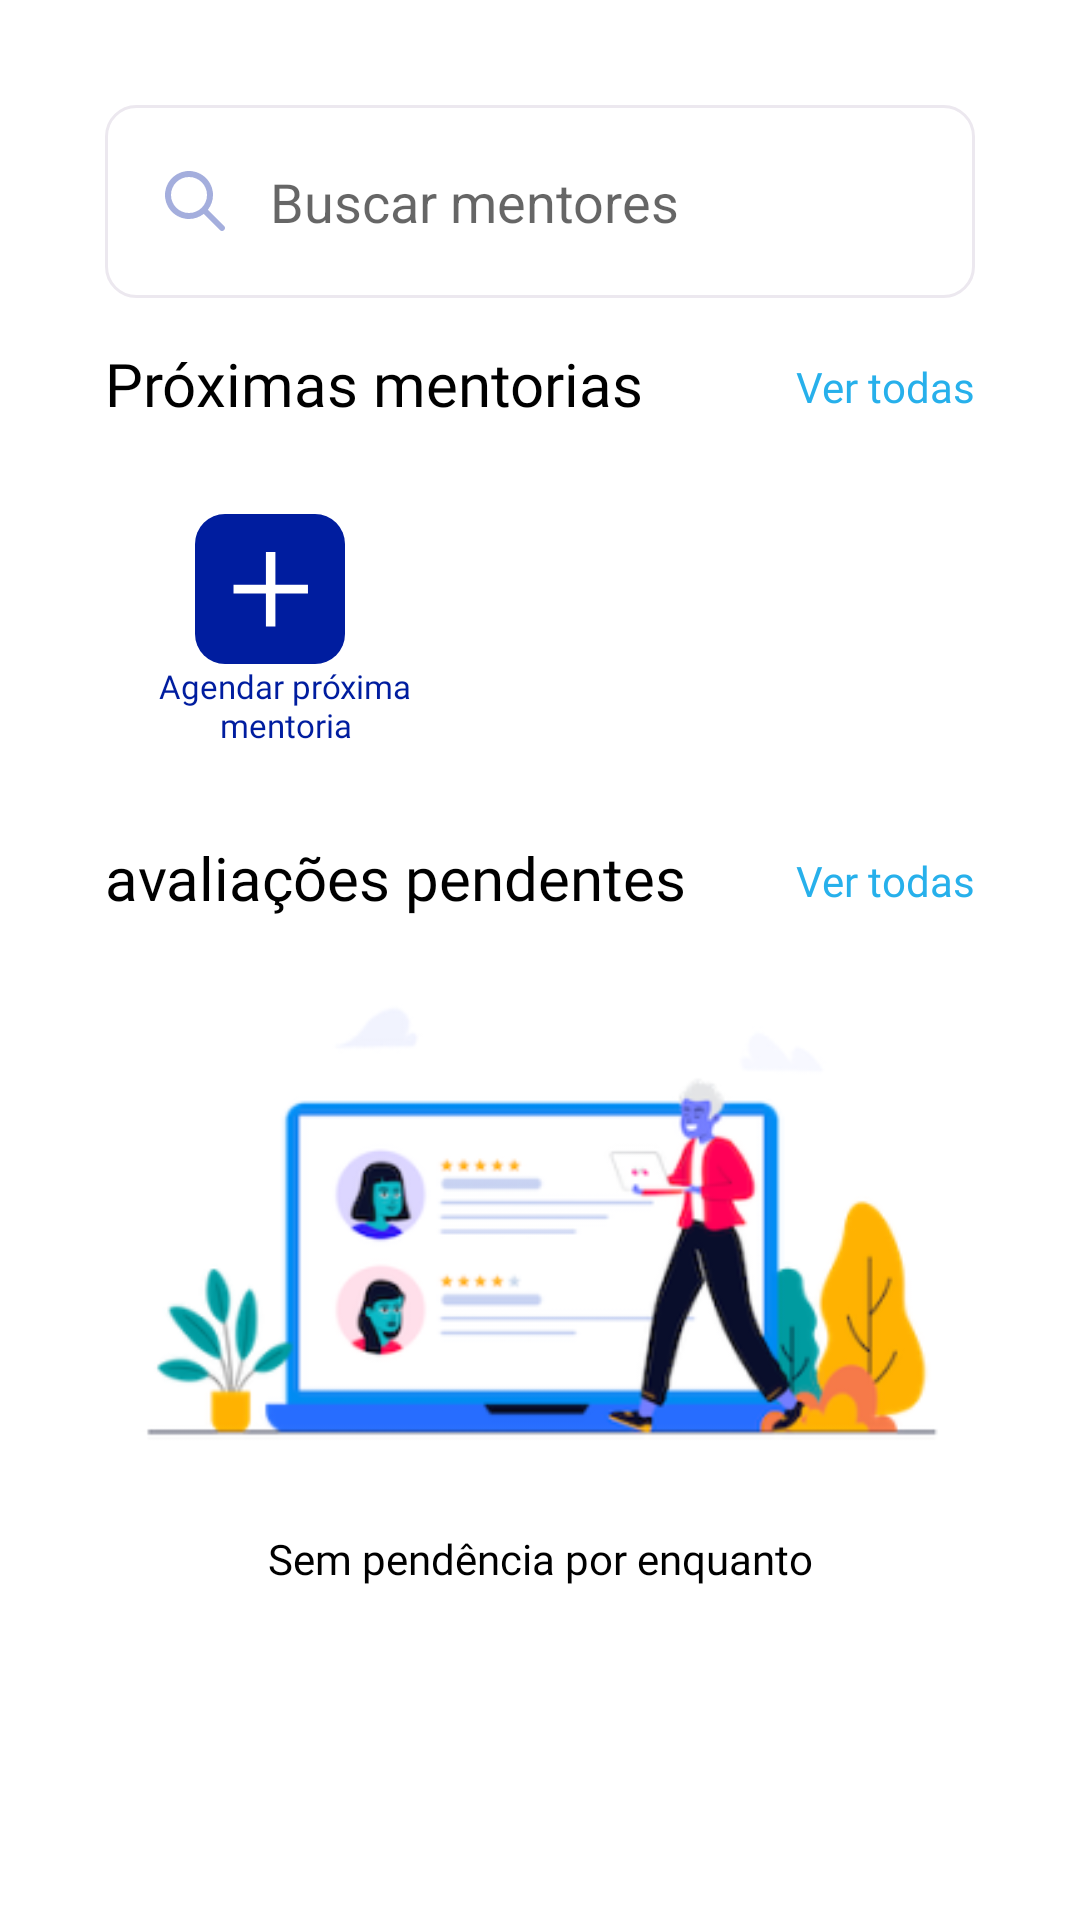

Screen size 1080 x 1920. Icon name, then its box in pixels as (x1, y1, x2, y2):
more: (233, 552, 308, 627)
